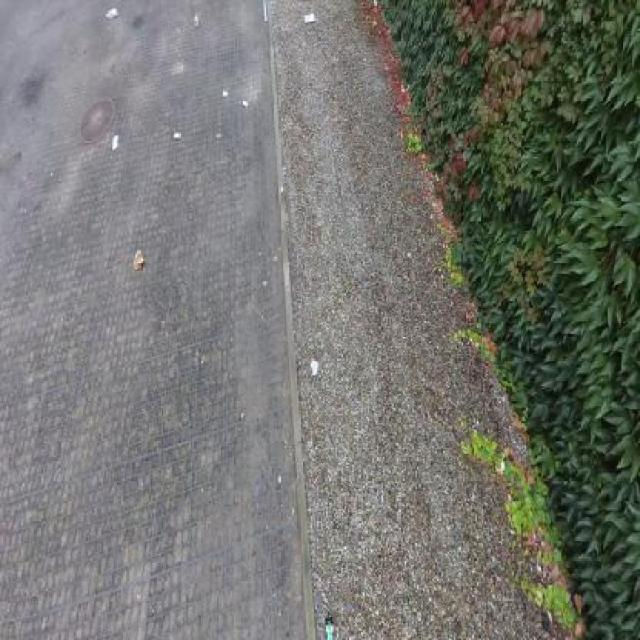Garbage: (132, 248, 145, 270), (324, 617, 334, 639), (309, 357, 318, 374), (106, 7, 118, 19), (304, 12, 316, 23), (112, 133, 118, 152), (263, 0, 267, 21), (242, 99, 250, 109), (173, 130, 180, 138), (194, 13, 198, 27), (280, 187, 284, 201), (222, 90, 228, 96)
